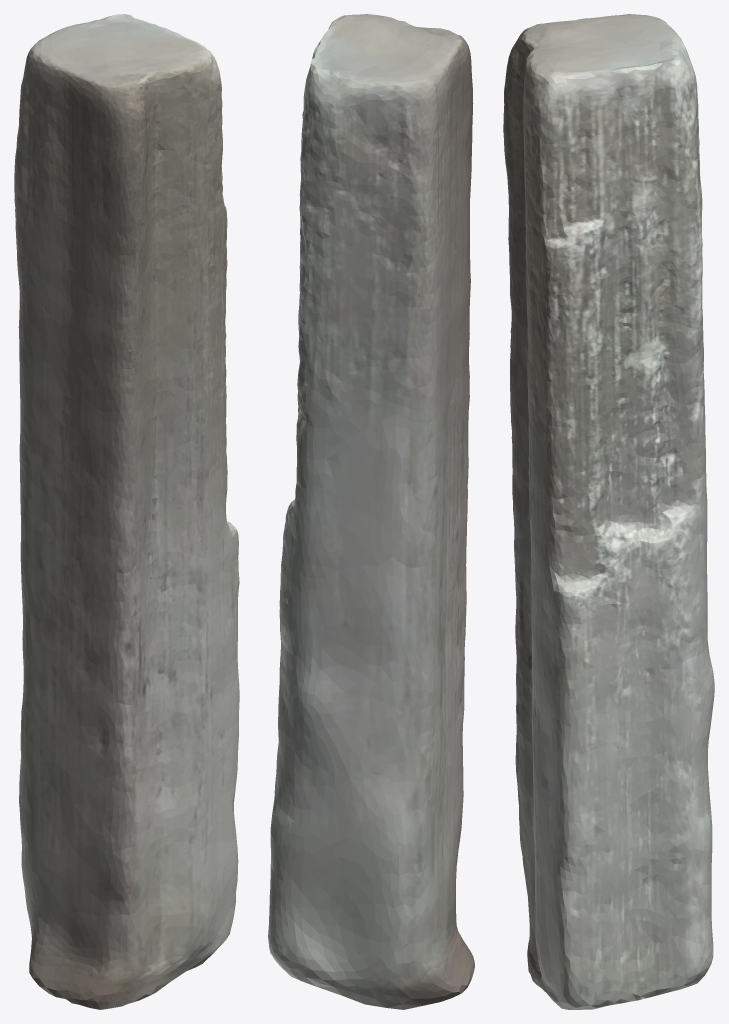
The model's file is xtal.glb.
The picture shows the model from 3 angles, left to right: view 1: azimuth 30°, elevation 25°; view 2: azimuth 150°, elevation 25°; view 3: azimuth 270°, elevation 25°; orthographic projection.
Bounding box in the file's own units: 0.0195 × 0.0943 × 0.019.
Materials: 1 (1 with a texture image).
